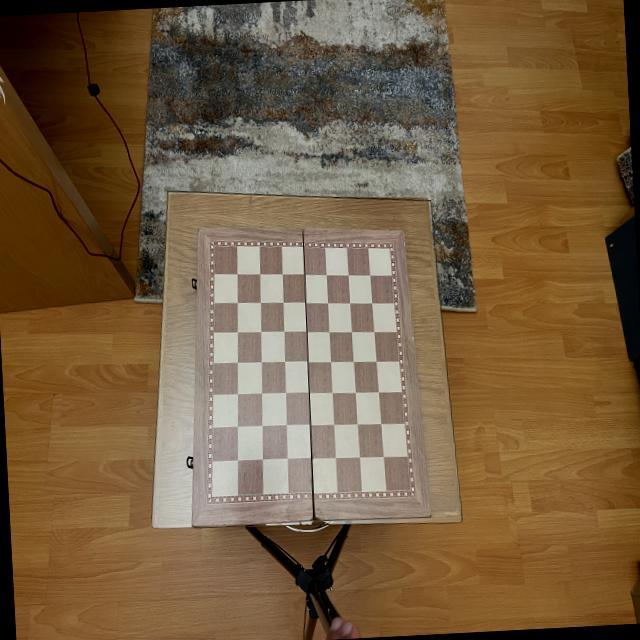corners: (190, 218, 213, 238), (392, 223, 412, 242), (422, 509, 438, 526), (185, 518, 200, 534)
